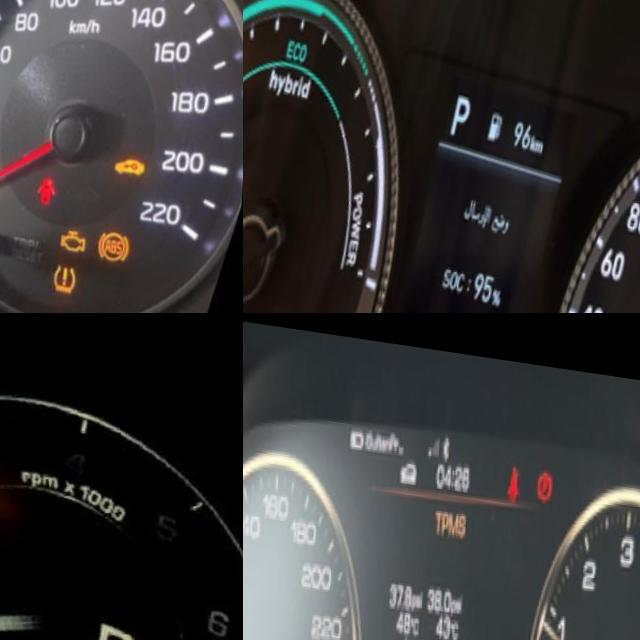Doors: (34, 157, 66, 195)
Seat Belt: (506, 450, 524, 495)
security: (113, 130, 155, 171)
